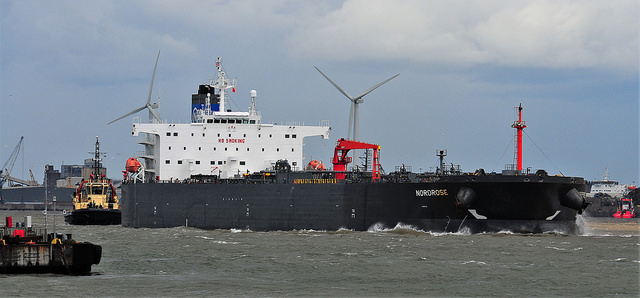tanker: (124, 61, 585, 233)
tug_boat: (69, 139, 124, 227)
